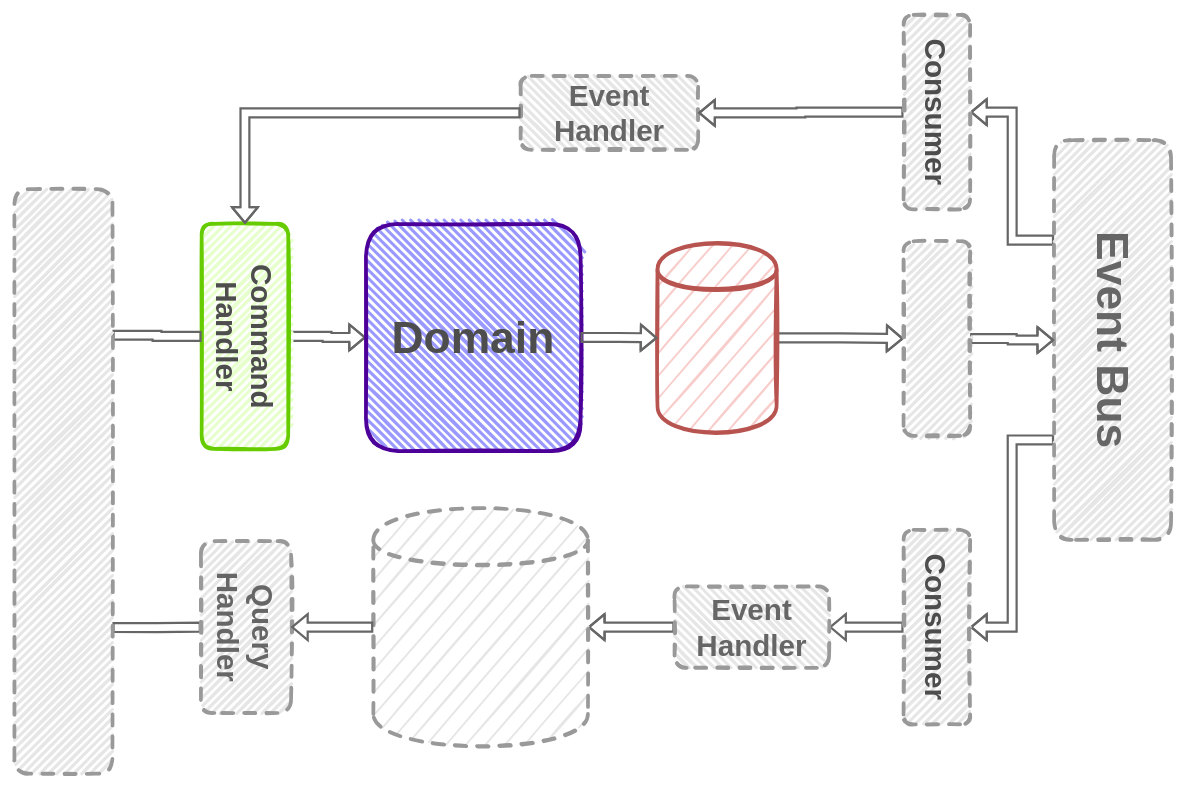
Some shapes in this 1186 by 788 pixel diagram are drawn without their labels. The shapes that lost their labels are listed below. From the top down, each one's centre as x and y in pixels, then its label:
At point 716,337: "Event Store".
At point 936,338: "Producer".
At point 63,481: "Interface".
At point 480,626: "Materialized Views ( Projections )".
